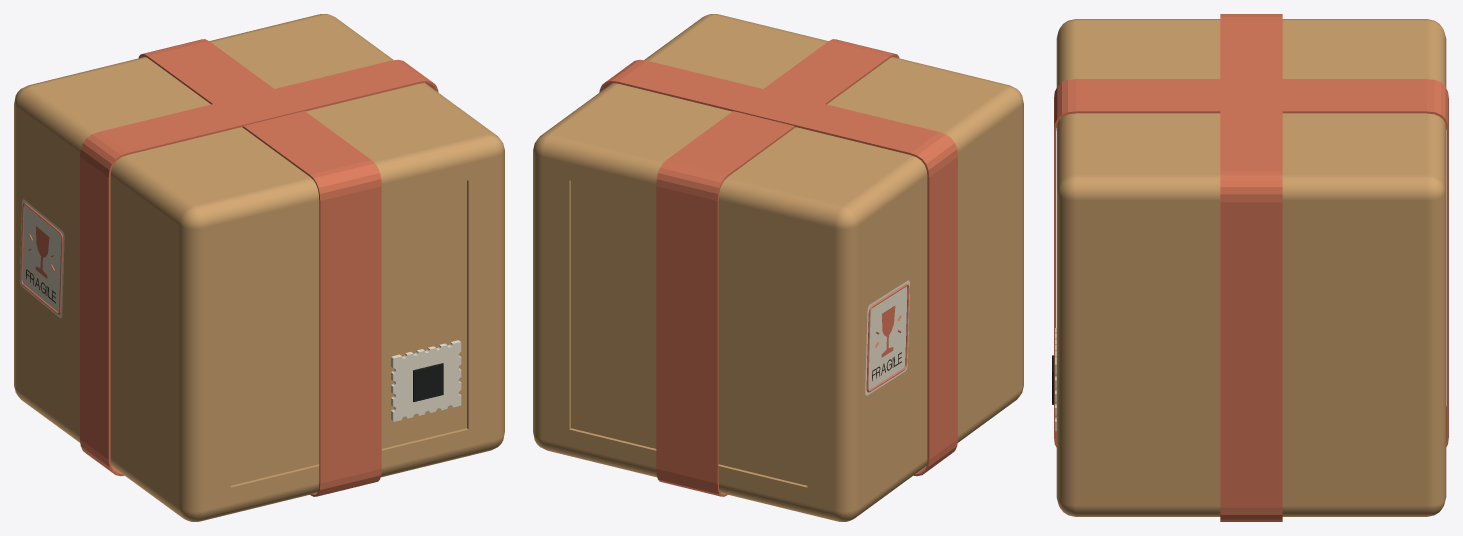
File: play-parcel-small-coral.glb
The picture shows the model from 3 angles, left to right: view 1: azimuth 30°, elevation 25°; view 2: azimuth 150°, elevation 25°; view 3: azimuth 270°, elevation 25°; orthographic projection. The views are drawn at different scales.
Visible parts, largest first — view 1: Parcel_Carton, Parcel_Tape_Continuous_Front_Back, Parcel_Tape_Continuous_Left_Right, Parcel_Paper_Label, Parcel_Care_Fragile_Paper, Parcel_Label_Square, Parcel_Care_Fragile_Border; view 2: Parcel_Carton, Parcel_Tape_Continuous_Front_Back, Parcel_Tape_Continuous_Left_Right, Parcel_Care_Fragile_Paper, Parcel_Care_Fragile_Border; view 3: Parcel_Carton, Parcel_Tape_Continuous_Left_Right, Parcel_Tape_Continuous_Front_Back.
Part boxes in pixels (left/top/right/bottom): Parcel_Carton: left=14, top=14, right=504, bottom=521; Parcel_Tape_Continuous_Front_Back: left=138, top=39, right=381, bottom=496; Parcel_Tape_Continuous_Left_Right: left=80, top=59, right=438, bottom=476; Parcel_Paper_Label: left=391, top=340, right=461, bottom=421; Parcel_Care_Fragile_Paper: left=19, top=199, right=64, bottom=318; Parcel_Label_Square: left=413, top=363, right=443, bottom=401; Parcel_Care_Fragile_Border: left=20, top=203, right=62, bottom=314; Parcel_Carton: left=533, top=14, right=1023, bottom=521; Parcel_Tape_Continuous_Front_Back: left=656, top=39, right=899, bottom=496; Parcel_Tape_Continuous_Left_Right: left=599, top=59, right=957, bottom=476; Parcel_Care_Fragile_Paper: left=865, top=280, right=909, bottom=395; Parcel_Care_Fragile_Border: left=866, top=284, right=909, bottom=392; Parcel_Carton: left=1056, top=19, right=1446, bottom=516; Parcel_Tape_Continuous_Left_Right: left=1220, top=14, right=1282, bottom=521; Parcel_Tape_Continuous_Front_Back: left=1054, top=79, right=1448, bottom=447.
Bounding box in the file's own units: 0.148 × 0.138 × 0.1427.
